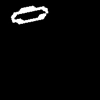chain: (11, 6, 47, 23)
